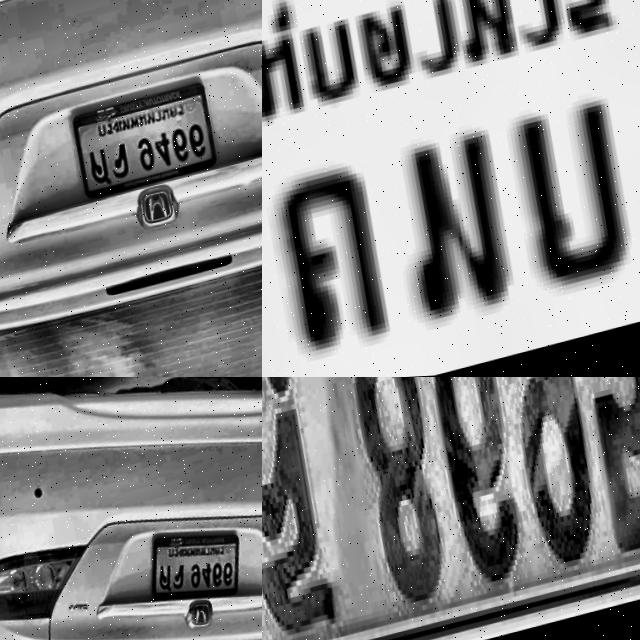license-plate: (262, 0, 640, 377), (262, 377, 640, 640), (68, 79, 223, 206), (139, 516, 254, 625)
